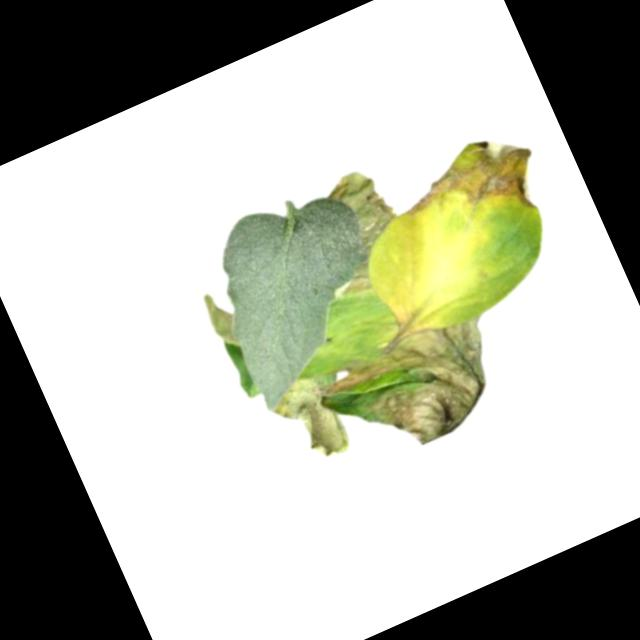Late_blight: (309, 302, 522, 478), (389, 122, 553, 259), (264, 370, 355, 478), (321, 162, 397, 243), (326, 228, 404, 303), (198, 289, 242, 354)
